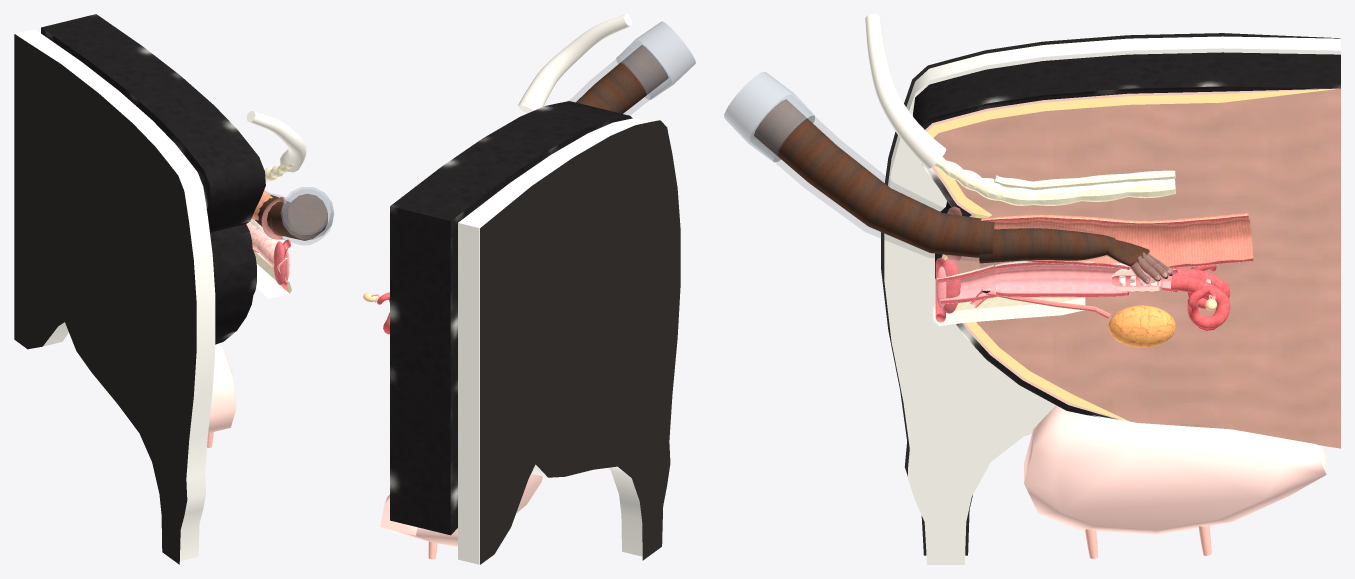
Rendered from tract-CTygNGIr.glb.
3 views of the same model, side by side, from view 1: azimuth 30°, elevation 25°; view 2: azimuth 150°, elevation 25°; view 3: azimuth 270°, elevation 25° (orthographic). The views are drawn at different scales.
Parts seen in each view (by area): view 1: TR_body_far, TR_skin_section, HAND_sleeve, TR_udder, TR_tail_section, TR_pelvis, TR_vulva, TR_vestibule; view 2: TR_body_far, TR_skin_section, HAND_sleeve, TR_tail_section, TR_udder; view 3: TR_skin_section, TR_body_far, TR_udder, HAND_sleeve, TR_rectum, TR_sacrum, TR_vagina, HAND_forearm, TR_tail_section, TR_pelvis, TR_bladder, TR_horn_right (+5 smaller).
Boxes of the visible parts, x1,y1,x2,y2 form: TR_body_far: [14, 29, 215, 564]; TR_skin_section: [41, 14, 265, 344]; HAND_sleeve: [257, 187, 334, 244]; TR_udder: [207, 344, 236, 447]; TR_tail_section: [246, 111, 306, 172]; TR_pelvis: [254, 251, 291, 298]; TR_vulva: [273, 241, 289, 285]; TR_vestibule: [254, 232, 289, 273]; TR_body_far: [458, 117, 680, 564]; TR_skin_section: [390, 101, 632, 535]; HAND_sleeve: [570, 21, 695, 114]; TR_tail_section: [518, 14, 632, 113]; TR_udder: [380, 473, 542, 559]; TR_skin_section: [913, 52, 1340, 448]; TR_body_far: [881, 33, 1340, 564]; TR_udder: [1024, 405, 1326, 558]; HAND_sleeve: [724, 72, 995, 260]; TR_rectum: [980, 212, 1253, 268]; TR_sacrum: [934, 157, 1175, 205]; TR_vagina: [995, 261, 1129, 297]; HAND_forearm: [979, 223, 1117, 268]; TR_tail_section: [865, 14, 946, 169]; TR_pelvis: [933, 296, 1085, 325]; TR_bladder: [1108, 305, 1175, 347]; TR_horn_right: [1171, 274, 1230, 329].
Size of the model in its own units: 0.4844 by 1.34 by 1.3.
44 materials, 25 textured.
